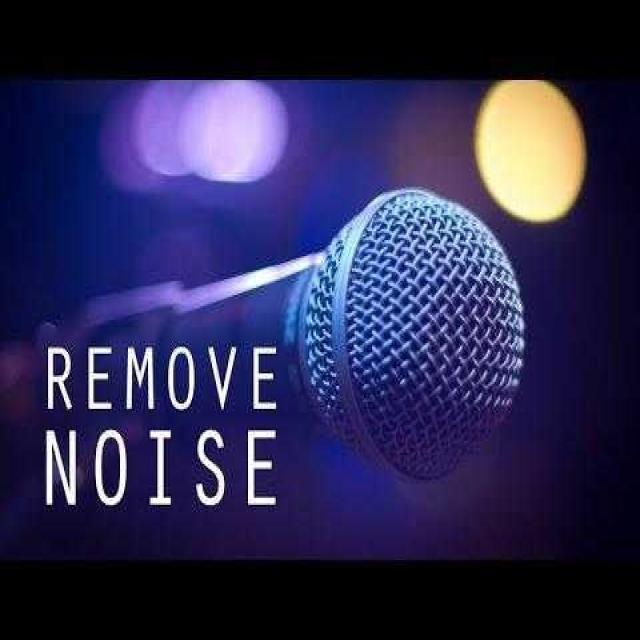microphone: (54, 187, 521, 480)
